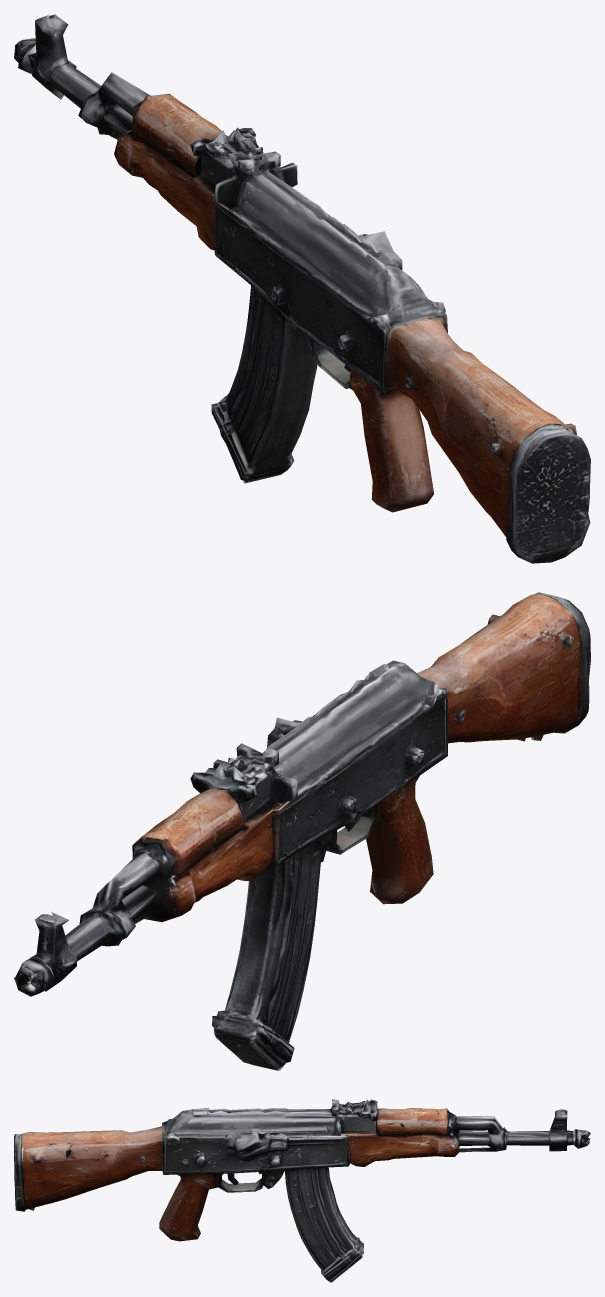
The picture shows the model from 3 angles, top to bottom: view 1: azimuth 30°, elevation 25°; view 2: azimuth 150°, elevation 25°; view 3: azimuth 270°, elevation 25°; orthographic projection. The views are drawn at different scales.
Visible parts, largest first — view 1: tripo_node_796819cb-320f-47de-bddd-d1c5c6149cf9; view 2: tripo_node_796819cb-320f-47de-bddd-d1c5c6149cf9; view 3: tripo_node_796819cb-320f-47de-bddd-d1c5c6149cf9.
Part boxes in pixels (x1=…): tripo_node_796819cb-320f-47de-bddd-d1c5c6149cf9: x1=14, y1=14, x2=590, y2=563; tripo_node_796819cb-320f-47de-bddd-d1c5c6149cf9: x1=14, y1=592, x2=590, y2=1070; tripo_node_796819cb-320f-47de-bddd-d1c5c6149cf9: x1=14, y1=1099, x2=590, y2=1282.
Size of the model in its own units: 0.1033 by 0.3391 by 1.
Materials: 1 (1 with a texture image).
